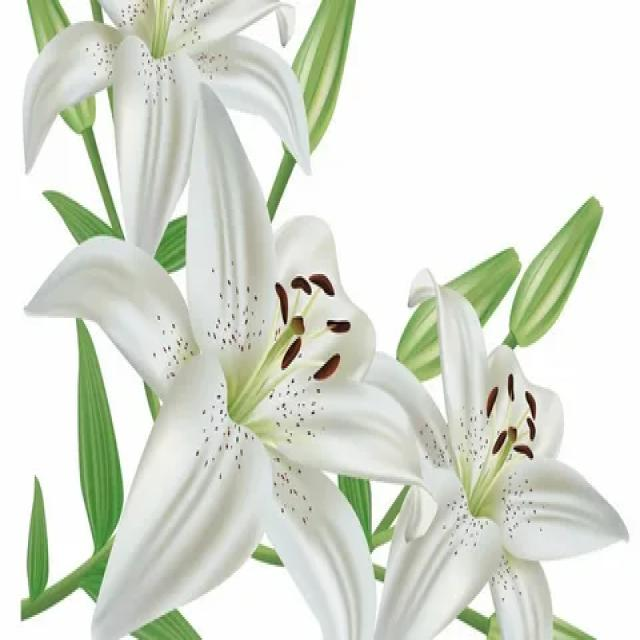lily: (28, 72, 430, 640)
